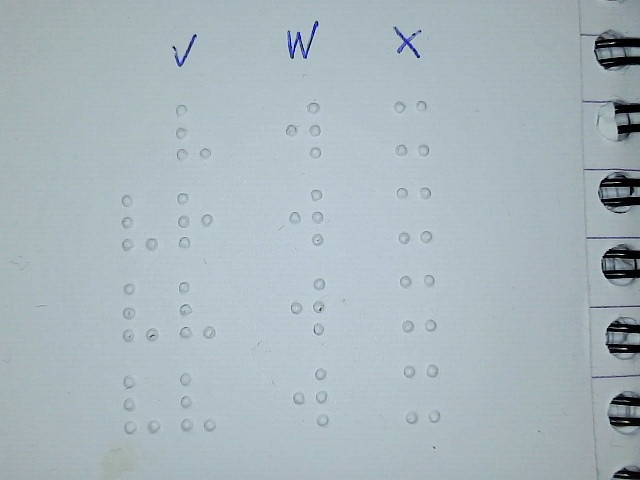V: (174, 101, 213, 162), (121, 192, 160, 253), (122, 373, 161, 434), (178, 371, 217, 432)
W: (284, 99, 323, 160), (287, 186, 326, 247), (288, 275, 327, 336), (291, 366, 330, 427)
X: (391, 97, 430, 158), (395, 184, 434, 245), (398, 272, 437, 333), (402, 363, 441, 424)
